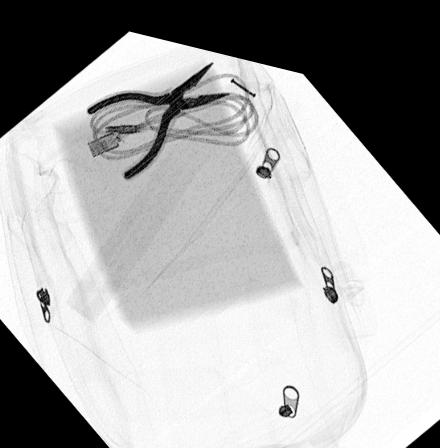Pliers: (82, 47, 230, 176)
